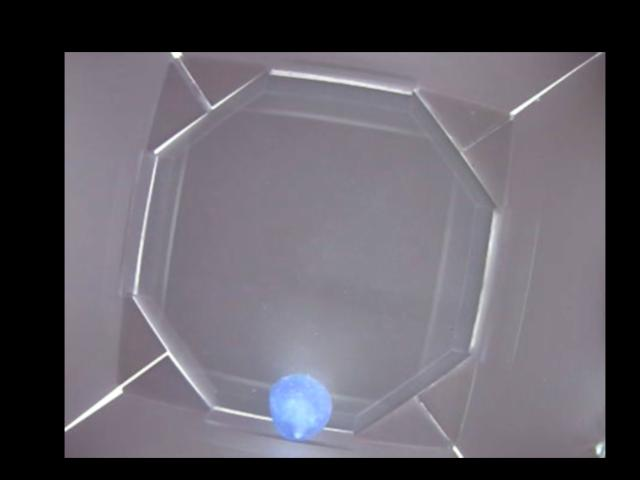Potato: (269, 374, 330, 441)
